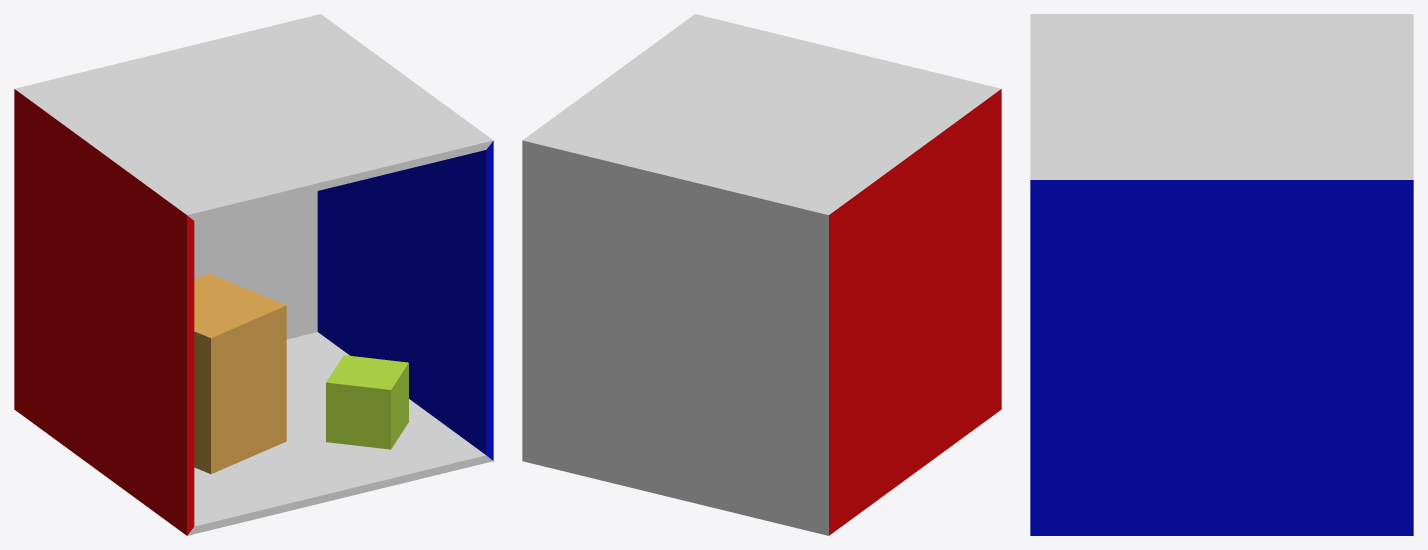
The model's file is CornellBox.glb.
The picture shows the model from 3 angles, left to right: view 1: azimuth 30°, elevation 25°; view 2: azimuth 150°, elevation 25°; view 3: azimuth 270°, elevation 25°; orthographic projection. The views are drawn at different scales.
Parts seen in each view (by area): view 1: Cube, Cube.002, Cube.001; view 2: Cube; view 3: Cube.
Boxes of the visible parts, x1,y1,x2,y2 form: Cube: [14, 14, 493, 535]; Cube.002: [194, 273, 286, 474]; Cube.001: [326, 355, 408, 449]; Cube: [522, 14, 1001, 535]; Cube: [1030, 14, 1413, 535].
Size of the model in its own units: 2.1 by 2.1 by 2.05.
